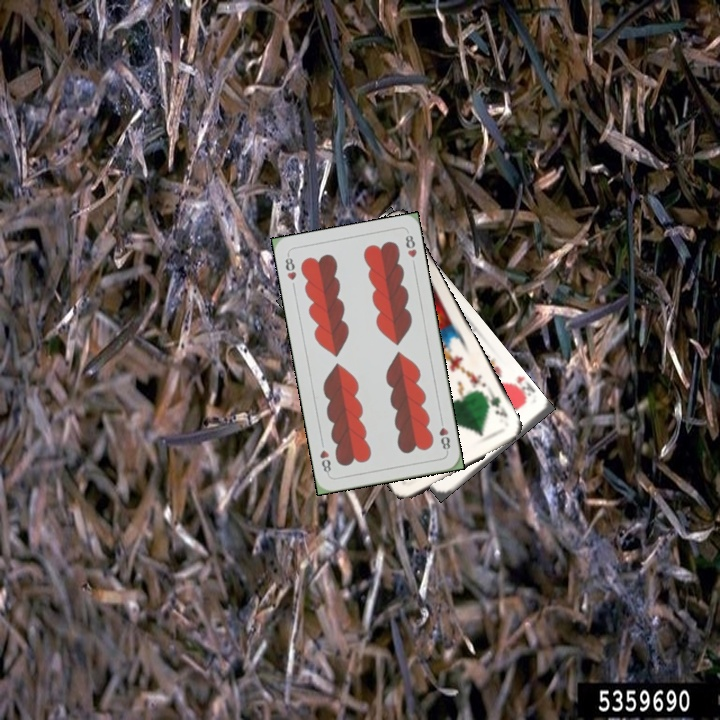GK: (482, 390, 510, 420)
H8: (435, 414, 453, 455), (281, 251, 299, 283)
HK: (503, 377, 536, 406)
